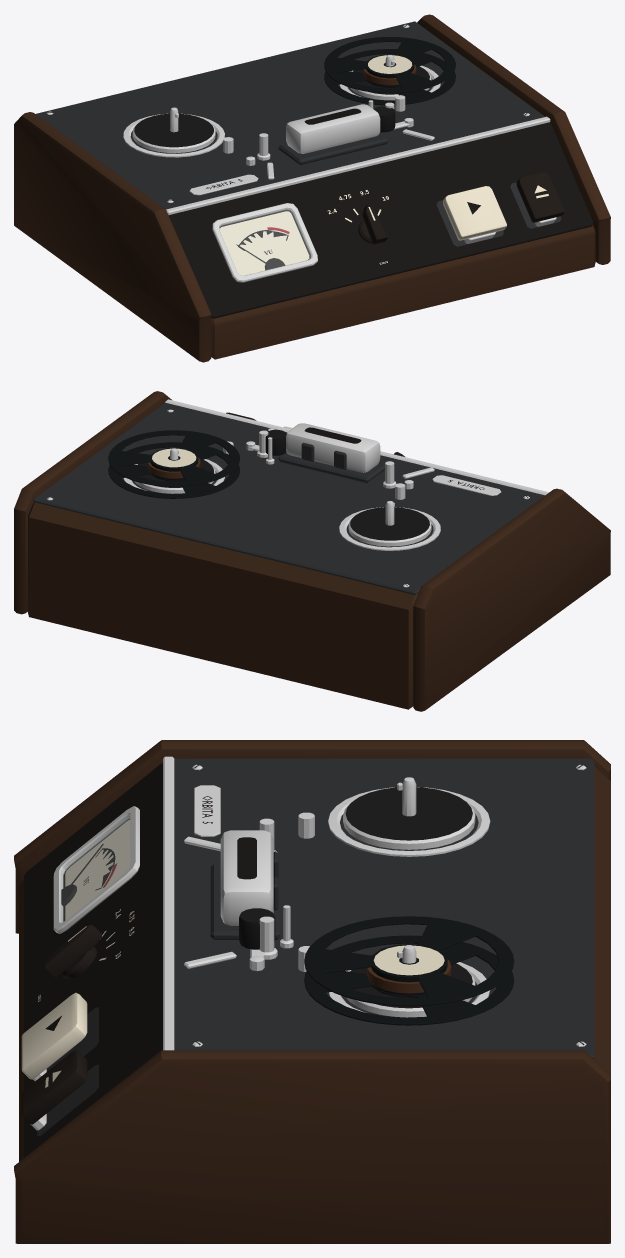
The model's file is tape_deck.glb.
3 views of the same model, one above another, from view 1: azimuth 30°, elevation 25°; view 2: azimuth 150°, elevation 25°; view 3: azimuth 270°, elevation 25° (orthographic). The views are drawn at different scales.
Parts seen in each view (by area): view 1: deck_body, takeup_reel, tape_path, vu_face, spindle_l, IA_play, IA_eject, IA_speed, spindle_r, vu_scale; view 2: deck_body, takeup_reel, tape_path, spindle_l, spindle_r; view 3: deck_body, takeup_reel, tape_path, spindle_l, IA_play, vu_face, IA_eject, IA_speed, spindle_r.
Part boxes in pixels (box(x1,y1,x2,y2)): deck_body: box(14, 14, 610, 362); takeup_reel: box(324, 37, 455, 105); tape_path: box(223, 95, 434, 179); vu_face: box(219, 211, 309, 275); spindle_l: box(132, 107, 215, 152); IA_play: box(443, 186, 506, 240); IA_eject: box(516, 172, 564, 222); IA_speed: box(358, 205, 387, 244); spindle_r: box(350, 55, 431, 100); vu_scale: box(238, 227, 289, 270); deck_body: box(14, 391, 610, 711); takeup_reel: box(108, 430, 239, 498); tape_path: box(223, 423, 434, 499); spindle_l: box(348, 501, 431, 546); spindle_r: box(135, 448, 215, 493); deck_body: box(14, 740, 610, 1243); takeup_reel: box(304, 916, 514, 1025); tape_path: box(184, 812, 314, 971); spindle_l: box(343, 777, 475, 849); IA_play: box(21, 992, 87, 1079); vu_face: box(65, 819, 130, 920); IA_eject: box(21, 1050, 87, 1124); IA_speed: box(45, 925, 101, 979); spindle_r: box(346, 945, 475, 1017).
Size of the model in its own units: 0.46 by 0.1602 by 0.361.
